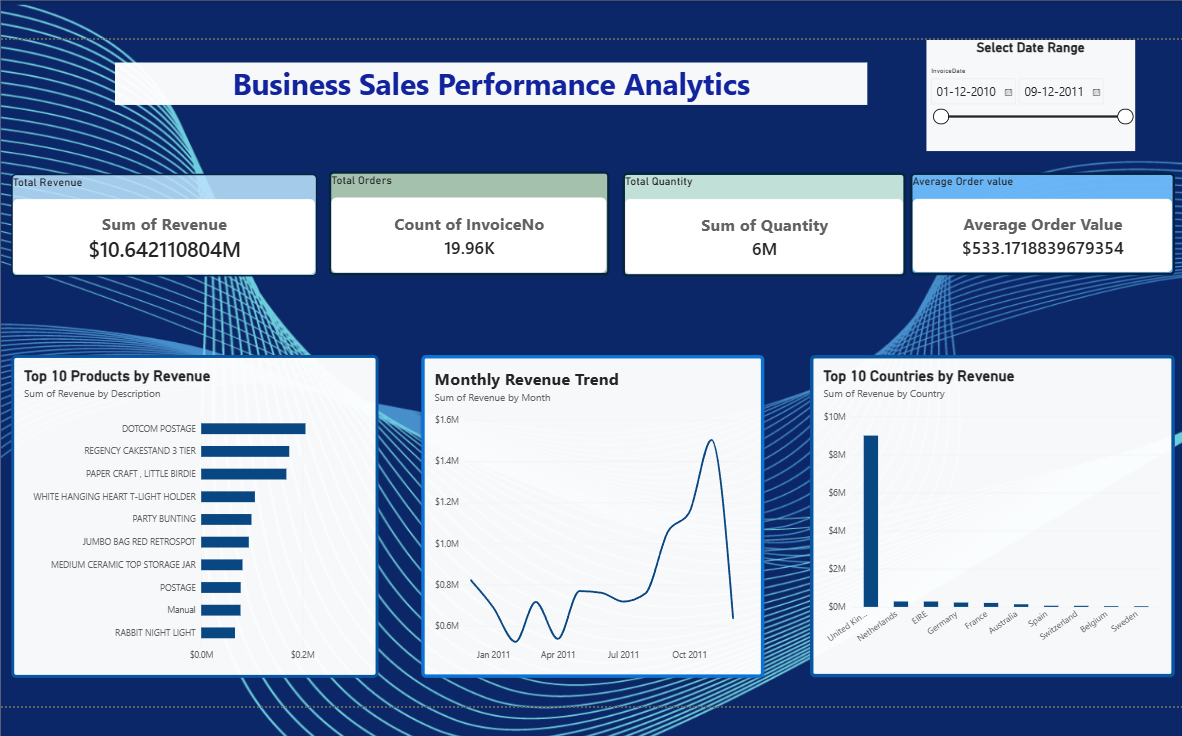

The page's visual inventory and layout, read from the dashboard file:
{"tool":"powerbi","page":{"name":"Page 1","canvas":[1920,1080],"ordinal":0},"visuals":[{"type":"cardVisual","title":"Total Revenue","fields":{"Data":["Sum(clean_sales_data.Revenue)"]},"box":[18.2,216.8,496.1,166.7],"z":0},{"type":"cardVisual","title":"Total Orders","fields":{"Data":["Count(clean_sales_data.InvoiceNo)"]},"box":[532.8,212.7,454.9,168.8],"z":1},{"type":"cardVisual","title":"Total Quantity","fields":{"Data":["Sum(clean_sales_data.Quantity)"]},"box":[1008.8,214.7,459,168.8],"z":2},{"type":"cardVisual","title":"Average Order value","fields":{"Data":["clean_sales_data.Average Order Value"]},"box":[1474.7,214.7,429.5,166.1],"z":3},{"type":"lineChart","title":"Monthly Revenue Trend","fields":{"Category":["clean_sales_data.Month"],"Y":["Sum(clean_sales_data.Revenue)"]},"box":[682.7,510.5,555.7,522.8],"z":4},{"type":"clusteredBarChart","title":"Top 10 Products by Revenue","fields":{"Category":["clean_sales_data.Description"],"Y":["Sum(clean_sales_data.Revenue)"]},"box":[18.2,510.5,594.9,522.8],"z":5},{"type":"clusteredColumnChart","title":"Top 10 Countries by Revenue","fields":{"Category":["clean_sales_data.Country"],"Y":["Sum(clean_sales_data.Revenue)"]},"box":[1312.7,510.5,591.5,522.6],"z":6},{"type":"textbox","box":[186.4,36.5,1219.5,68.9],"z":7},{"type":"slicer","title":"Select Date Range","fields":{"Values":["clean_sales_data.InvoiceDate"]},"box":[1501.1,0,338.3,180.3],"z":8}]}

Visuals, with their boxes in screenshot pixels (x1, y1, x2, y2):
"Total Revenue" cardVisual: (20, 172, 321, 273)
"Total Orders" cardVisual: (333, 169, 609, 272)
"Total Quantity" cardVisual: (622, 170, 900, 273)
"Average Order value" cardVisual: (905, 170, 1165, 271)
"Monthly Revenue Trend" lineChart: (424, 350, 761, 667)
"Top 10 Products by Revenue" clusteredBarChart: (20, 350, 381, 667)
"Top 10 Countries by Revenue" clusteredColumnChart: (806, 350, 1165, 667)
textbox: (122, 62, 863, 104)
"Select Date Range" slicer: (921, 40, 1126, 149)
